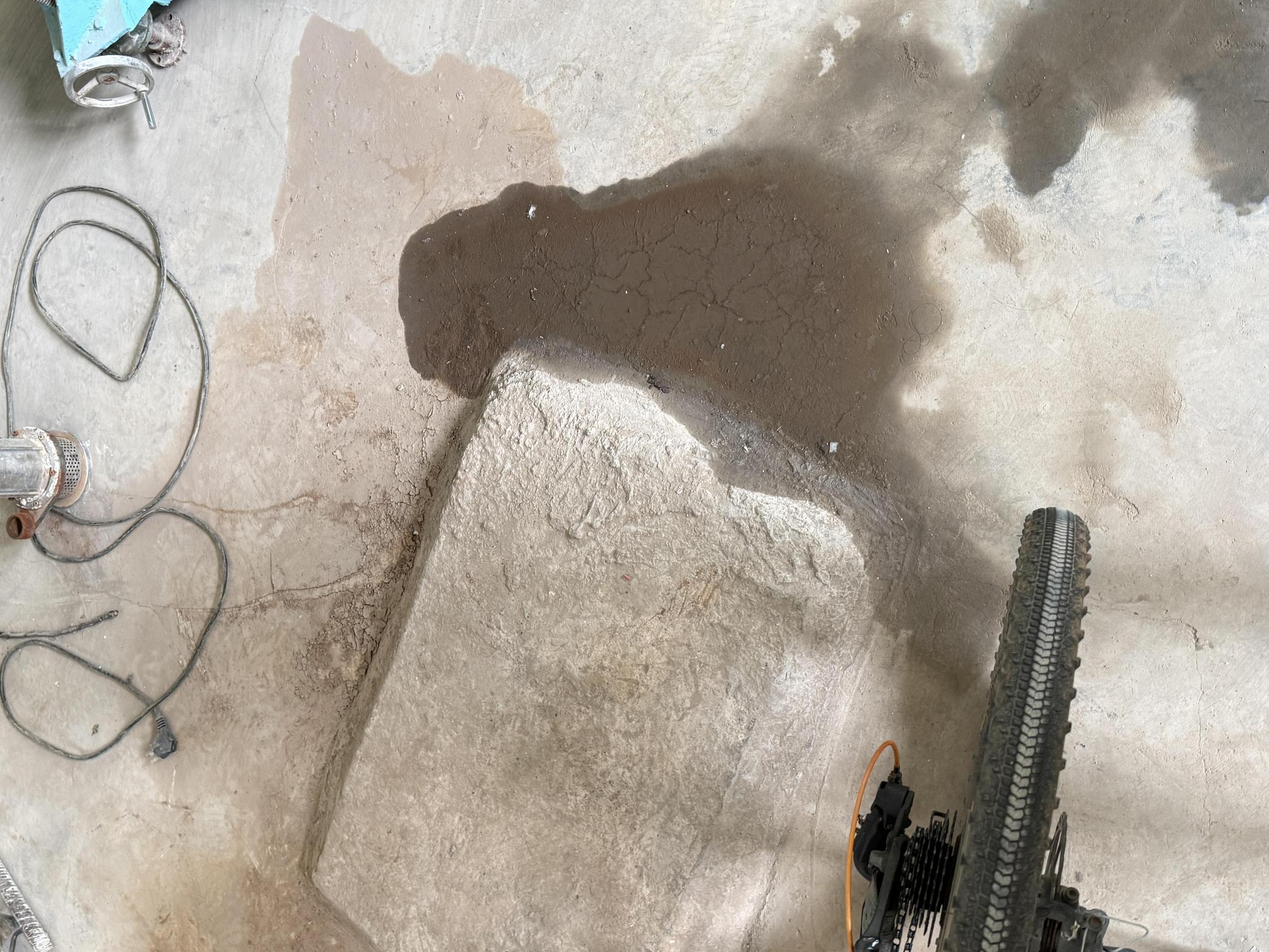water accumulation: (386, 141, 948, 535), (986, 0, 1269, 216)
